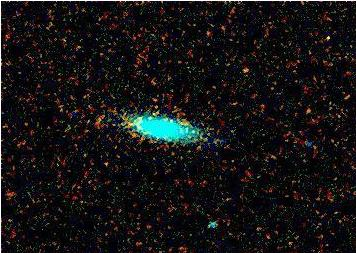star: (229, 53, 259, 83)
